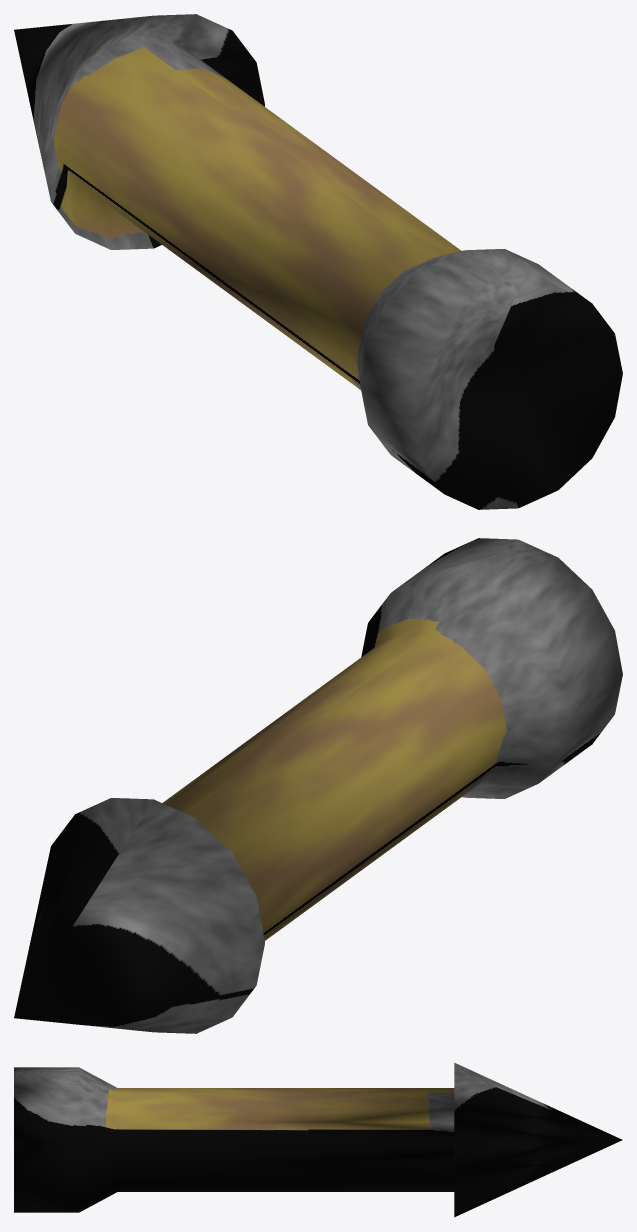
Rendered from harpon.obj.
The picture shows the model from 3 angles, top to bottom: view 1: azimuth 30°, elevation 25°; view 2: azimuth 150°, elevation 25°; view 3: azimuth 270°, elevation 25°; orthographic projection. The views are drawn at different scales.
Bounding box in the file's own units: 2.27 × 2.27 × 8.91.
